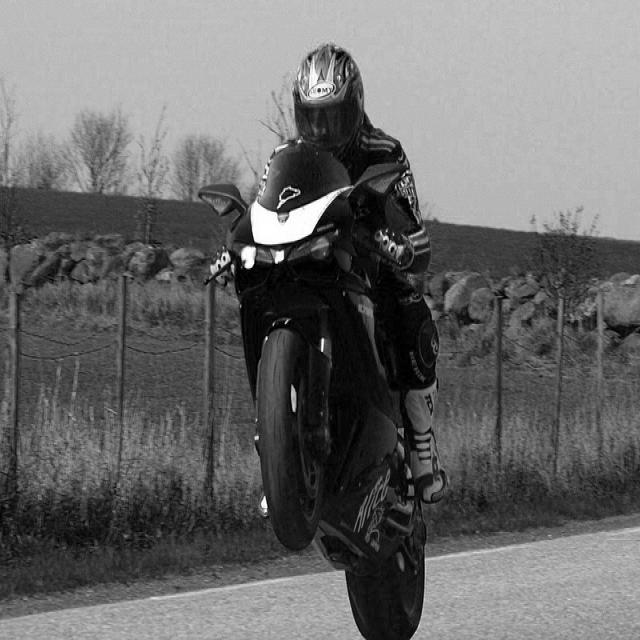motor: (214, 141, 430, 634)
